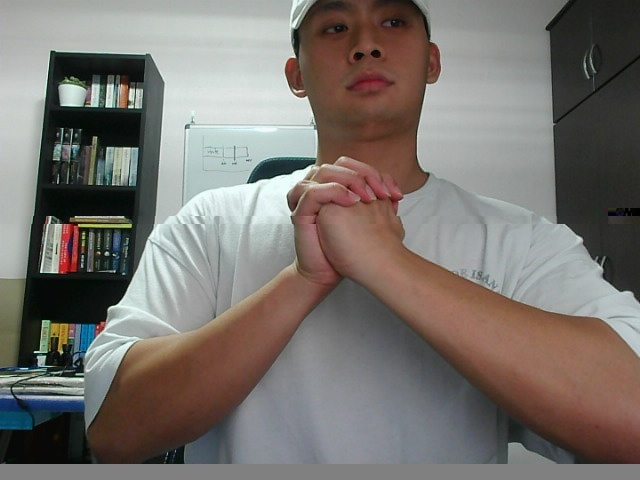Serpent: (282, 150, 413, 315)
